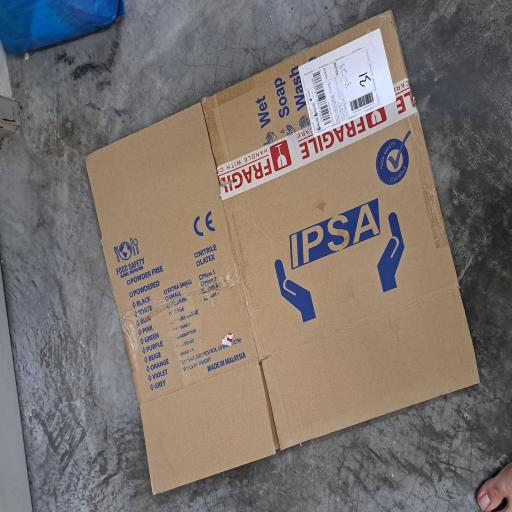cardboard: (11, 112, 377, 512)
plastic bag: (340, 0, 384, 163)
